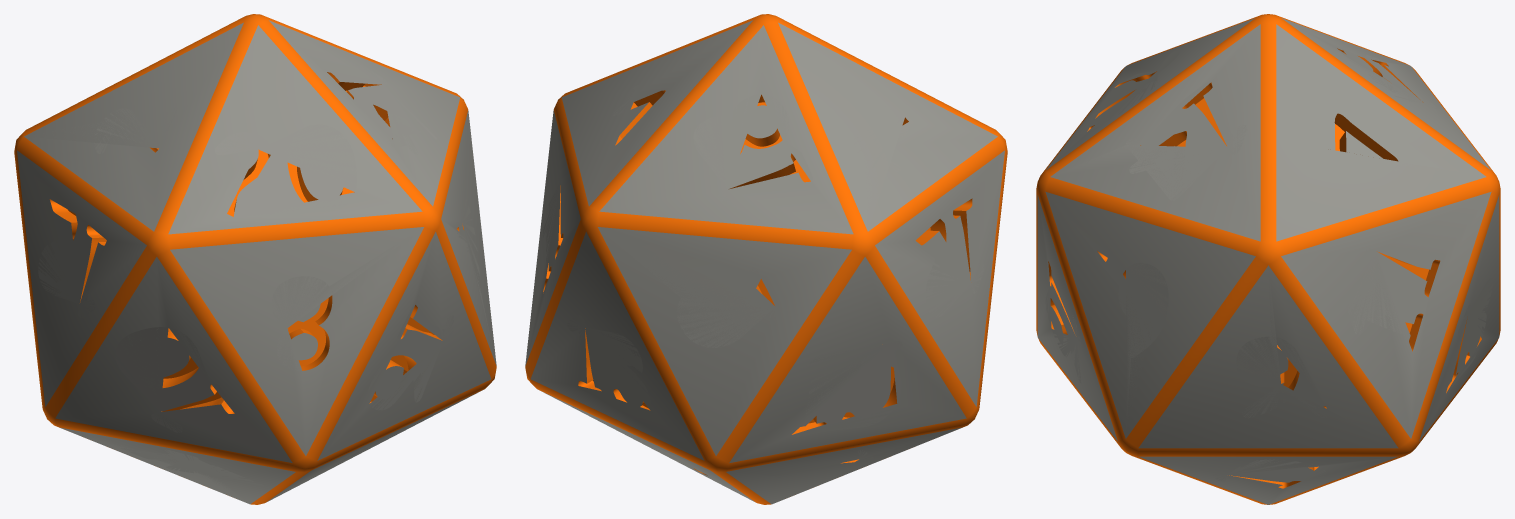
The model's file is D20Dice_3.fbx.
3 views of the same model, side by side, from view 1: azimuth 30°, elevation 25°; view 2: azimuth 150°, elevation 25°; view 3: azimuth 270°, elevation 25° (orthographic).
Parts seen in each view (by area): view 1: Icosphere; view 2: Icosphere; view 3: Icosphere.
Boxes of the visible parts, x1=… form: Icosphere: x1=14, y1=14, x2=496, y2=504; Icosphere: x1=525, y1=14, x2=1007, y2=504; Icosphere: x1=1036, y1=14, x2=1500, y2=504.
Bounding box in the file's own units: 177 × 196 × 169.
